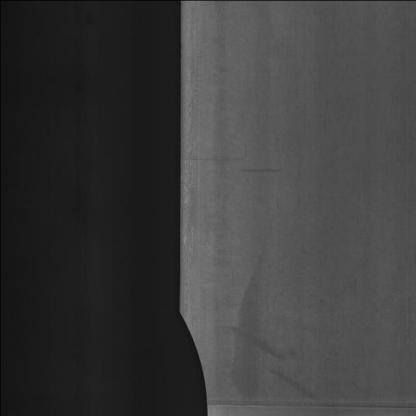crescent_gap: (164, 289, 214, 416)
welding_line: (200, 385, 416, 416)
